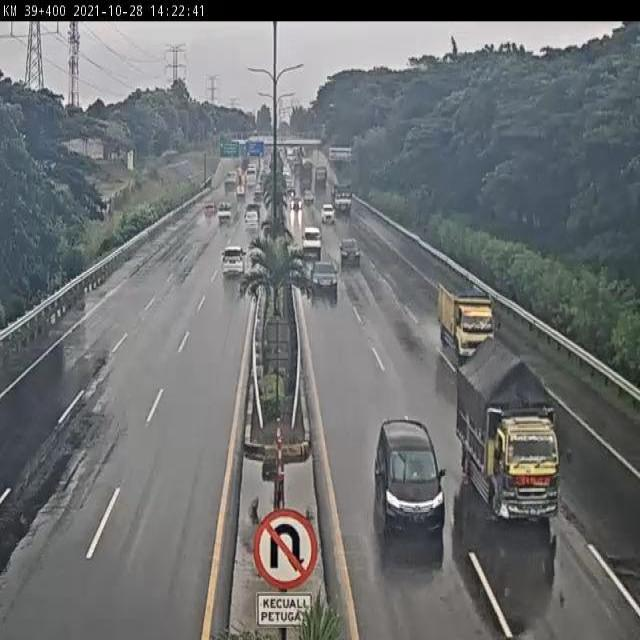truck-s-: (455, 336, 570, 525), (438, 281, 495, 367)
